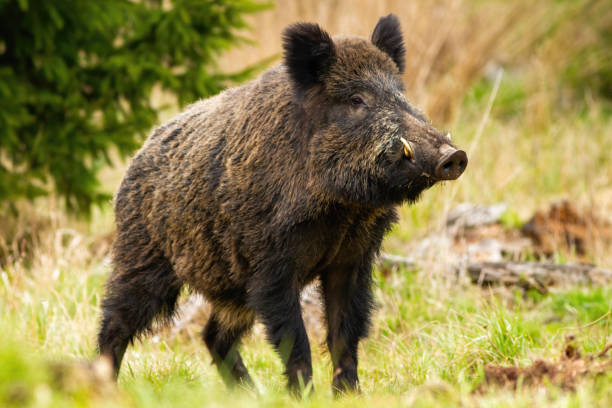pig: (107, 12, 473, 390)
